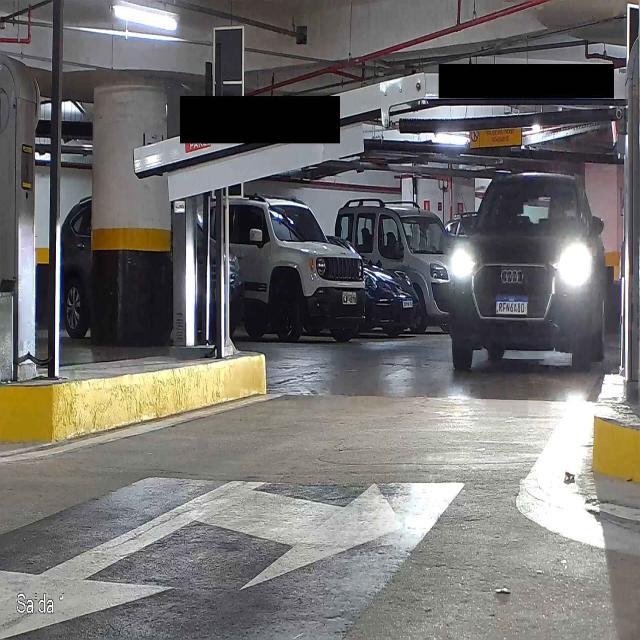mercosul_plate: (495, 294, 529, 316)
